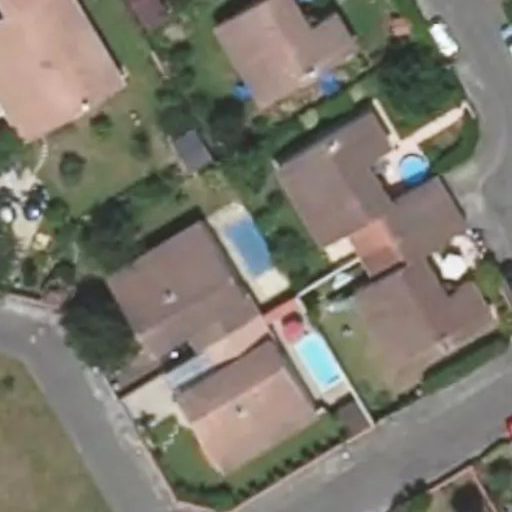pool: (221, 216, 278, 276), (291, 333, 347, 389), (396, 152, 431, 185)
